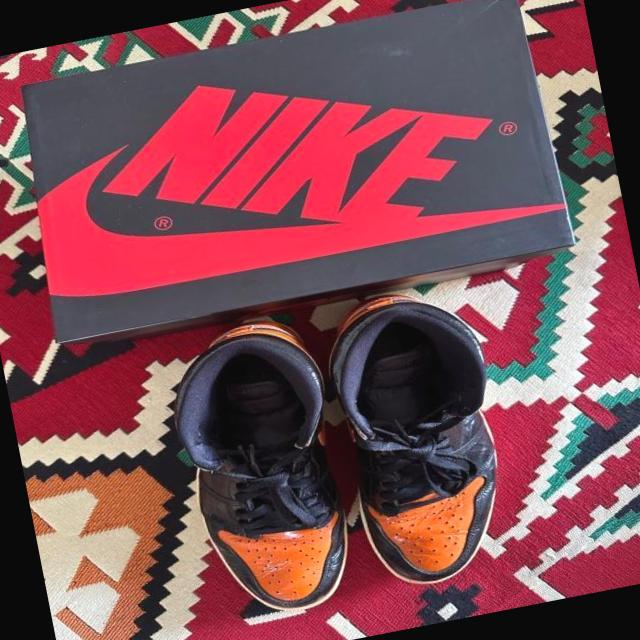nike_original_jordan: (310, 276, 532, 597), (154, 312, 372, 628)
